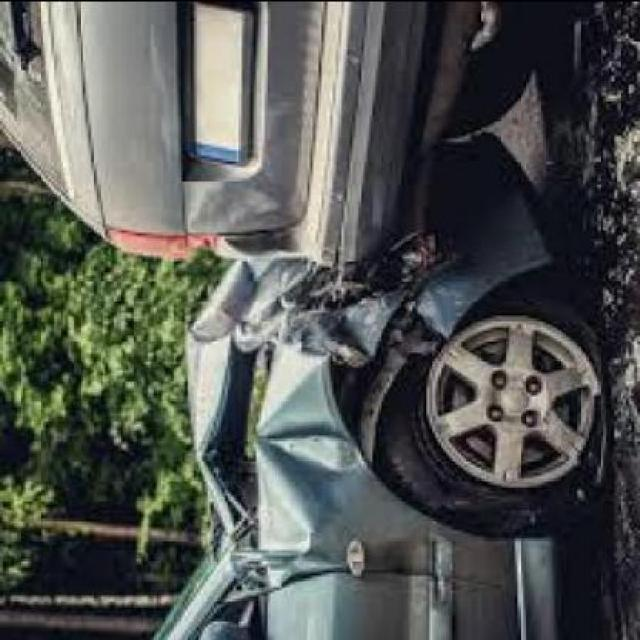damage: (177, 222, 469, 583)
